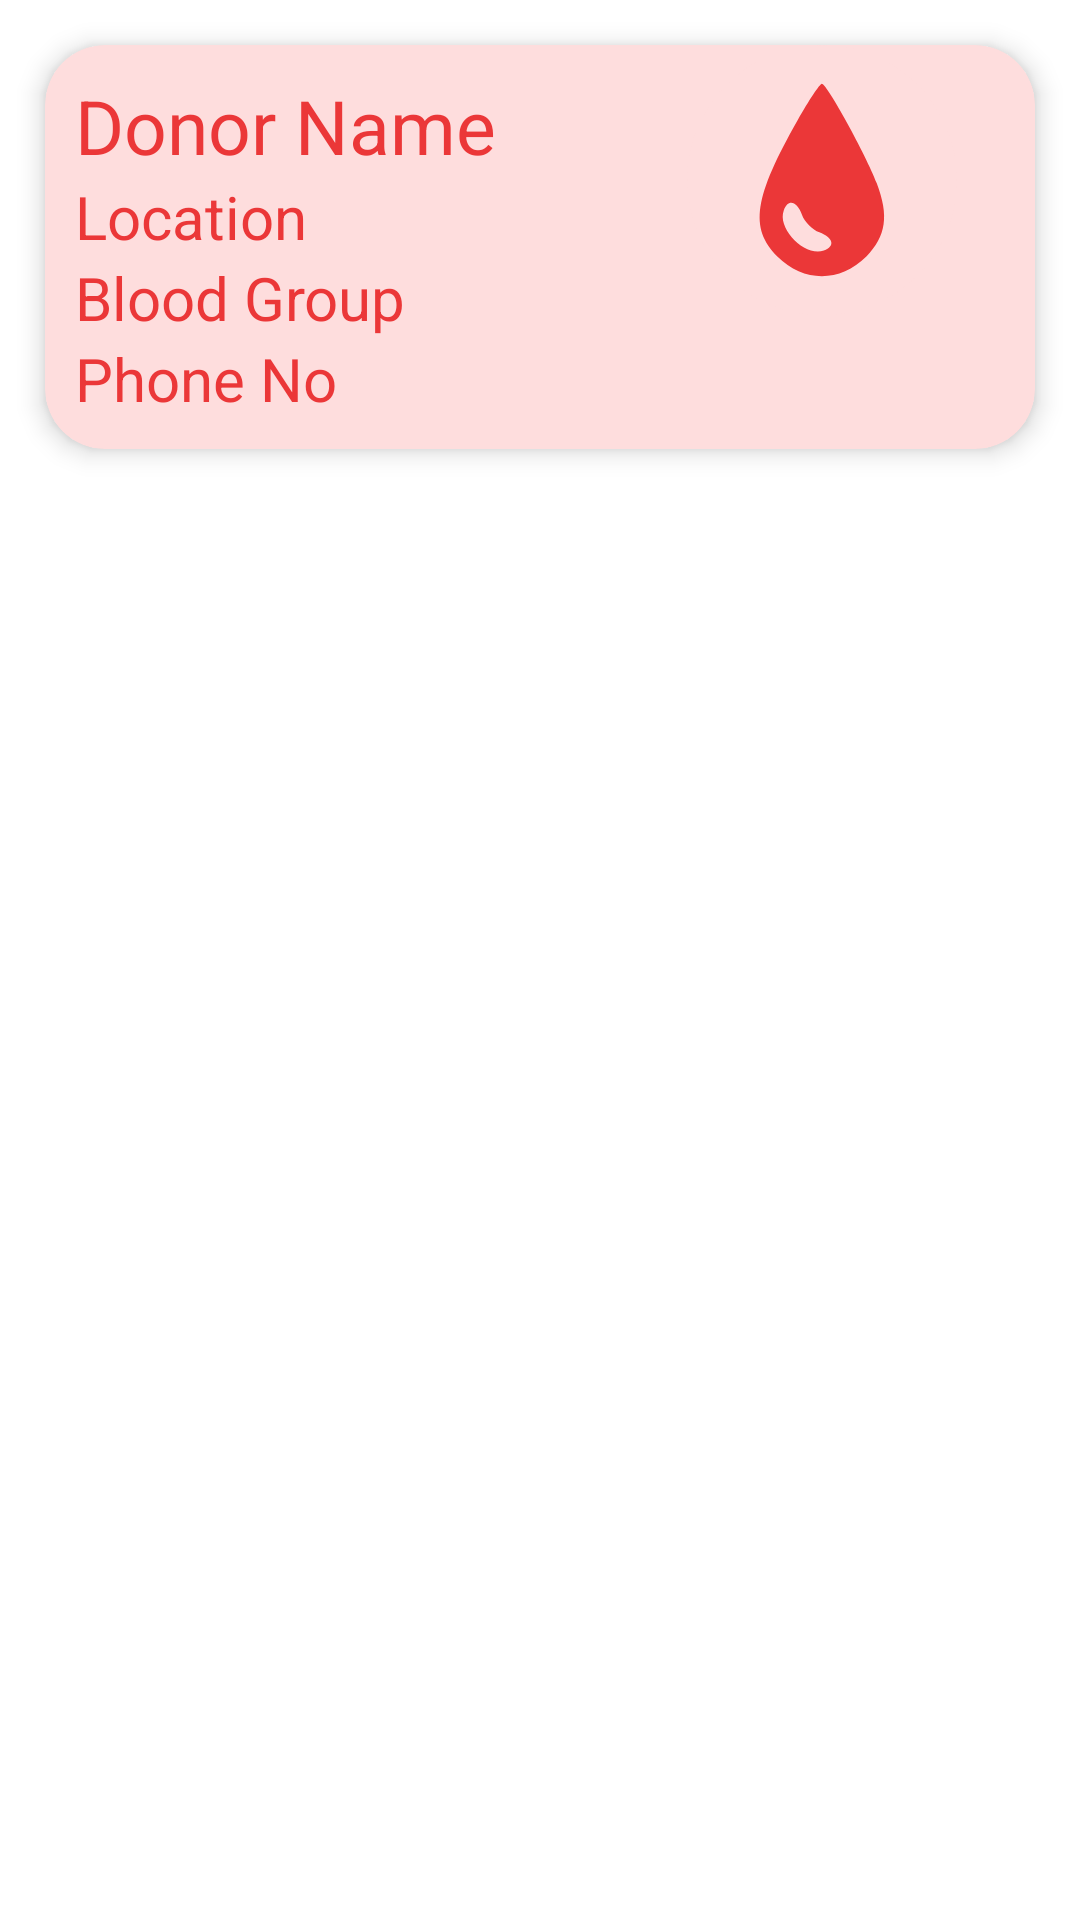

Screen size 1080*1920. Icon name, then its box in pixels as BBox(x1, y1, x2, y2):
donor: BBox(759, 46, 991, 277)
